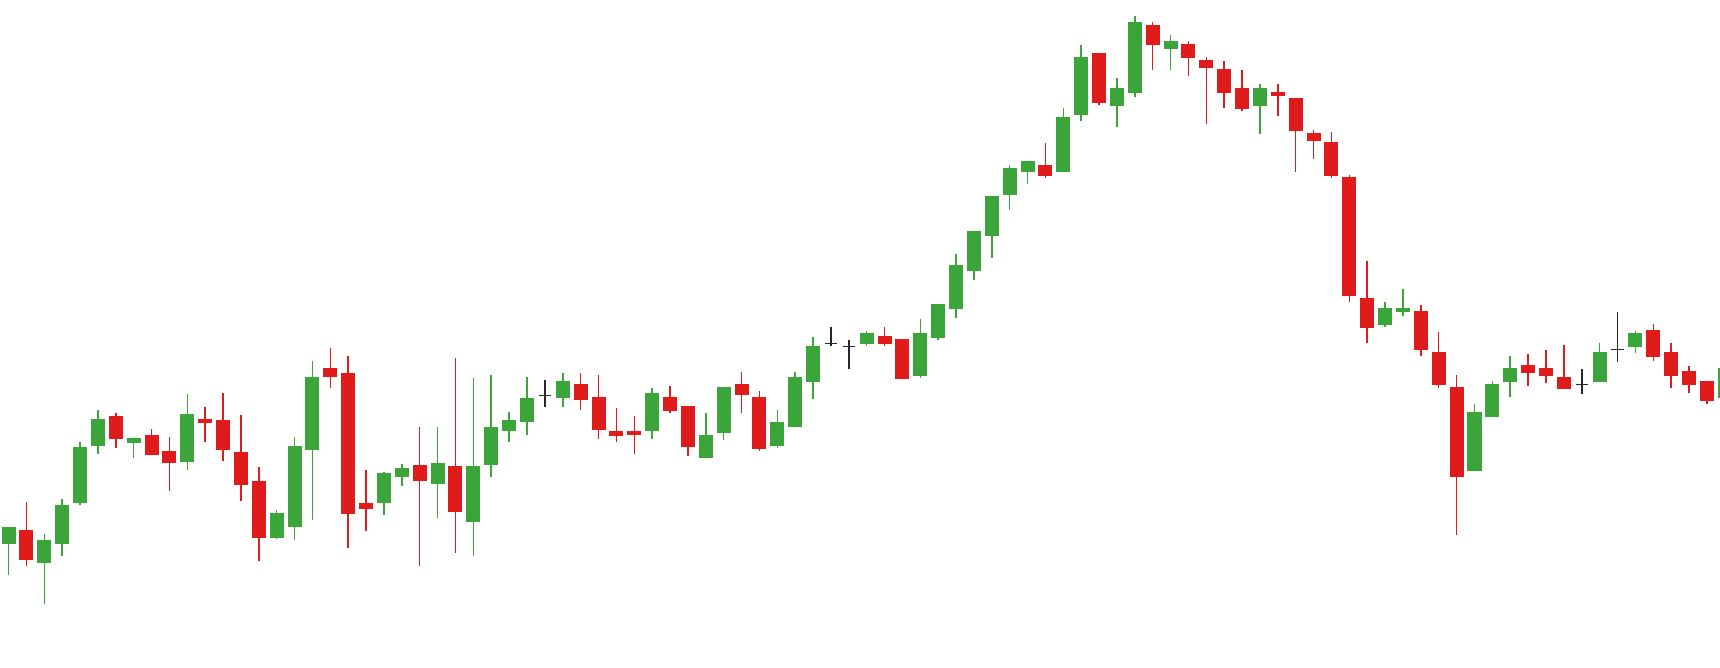sell: (178, 348, 359, 450)
